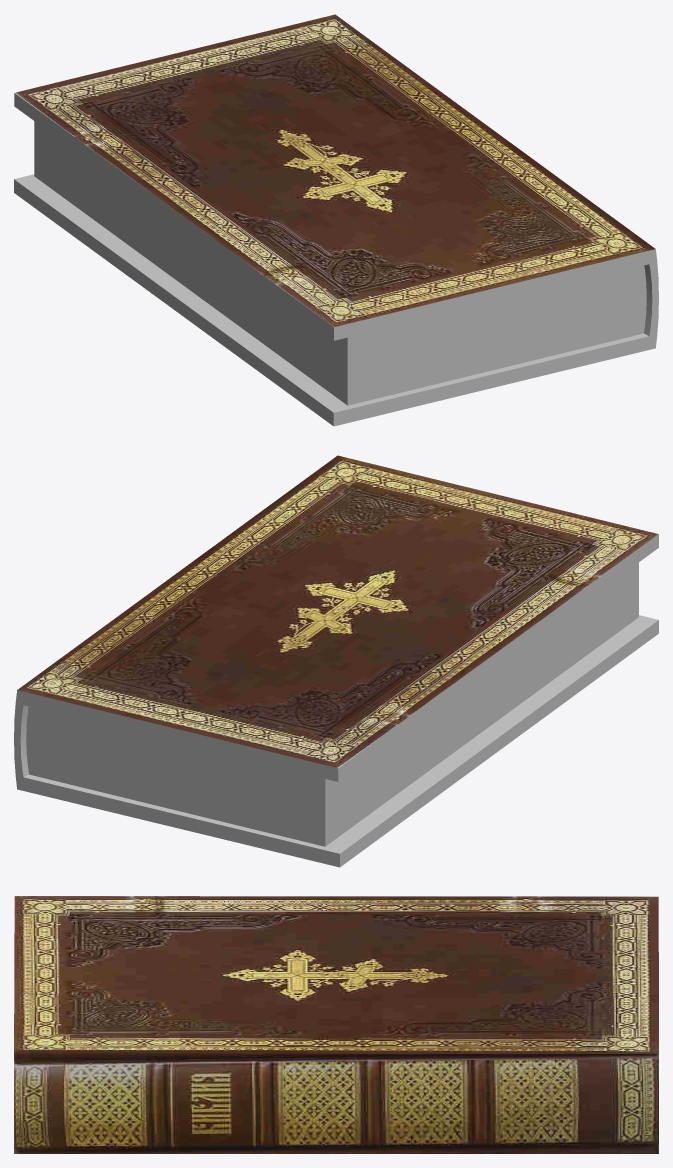
File: BIBLIA.fbx
3 renders of one model, top to bottom at view 1: azimuth 30°, elevation 25°; view 2: azimuth 150°, elevation 25°; view 3: azimuth 270°, elevation 25°, orthographic.
Visible parts, largest first — view 1: Cube; view 2: Cube; view 3: Cube.
Part boxes in pixels (<box>): Cube: <box>14,14,658,426</box>; Cube: <box>14,455,658,867</box>; Cube: <box>14,896,658,1153</box>.
Bounding box in the file's own units: 117 × 34.2 × 200.
